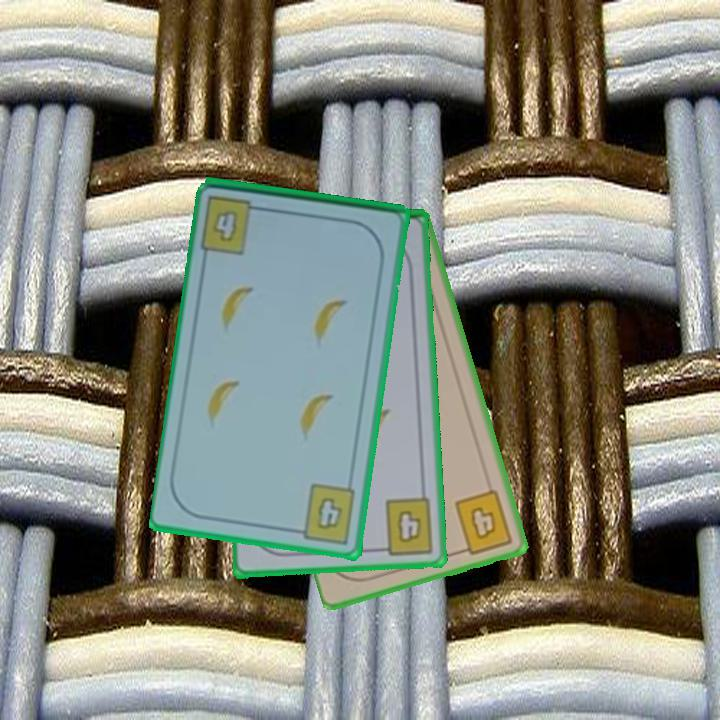4b: (451, 486, 517, 558), (290, 480, 359, 547), (198, 192, 269, 257), (373, 494, 437, 558)
